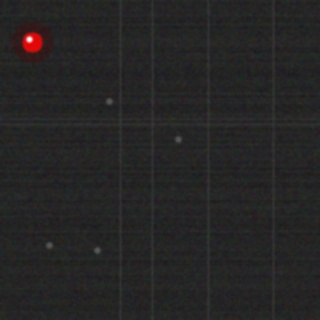red_fault: (20, 30, 44, 54)
